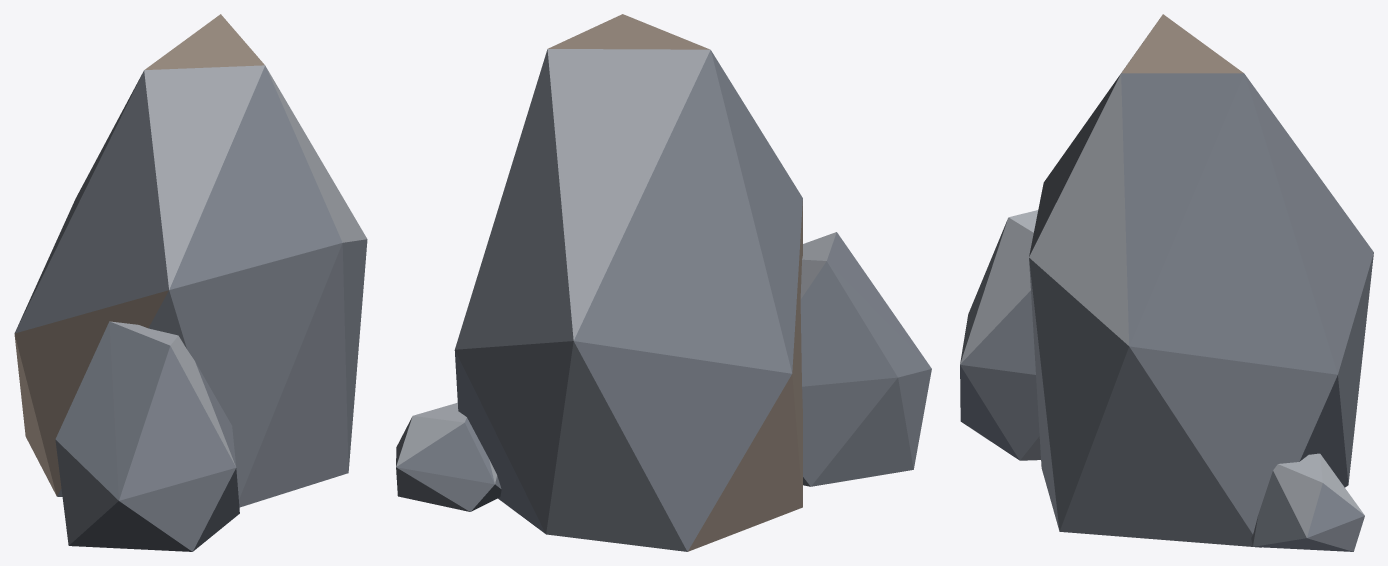
The model's file is rock_l2.glb.
The picture shows the model from 3 angles, left to right: view 1: azimuth 30°, elevation 25°; view 2: azimuth 150°, elevation 25°; view 3: azimuth 270°, elevation 25°; orthographic projection. The views are drawn at different scales.
Parts seen in each view (by area): view 1: Body; view 2: Body; view 3: Body.
Part boxes in pixels (bbox=[...]): Body: bbox=[14, 14, 367, 551]; Body: bbox=[396, 14, 931, 551]; Body: bbox=[960, 14, 1373, 551].
Bounding box in the file's own units: 3.63 × 3.92 × 3.37.
